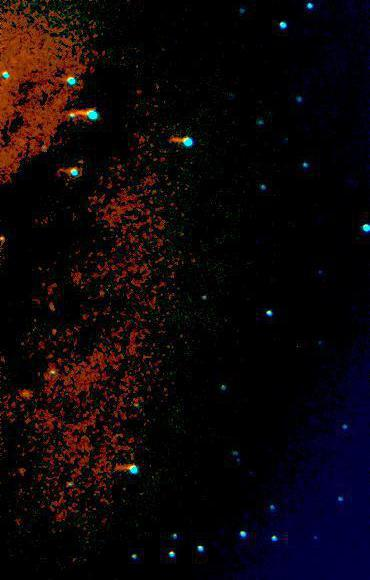star: (13, 377, 43, 407)
